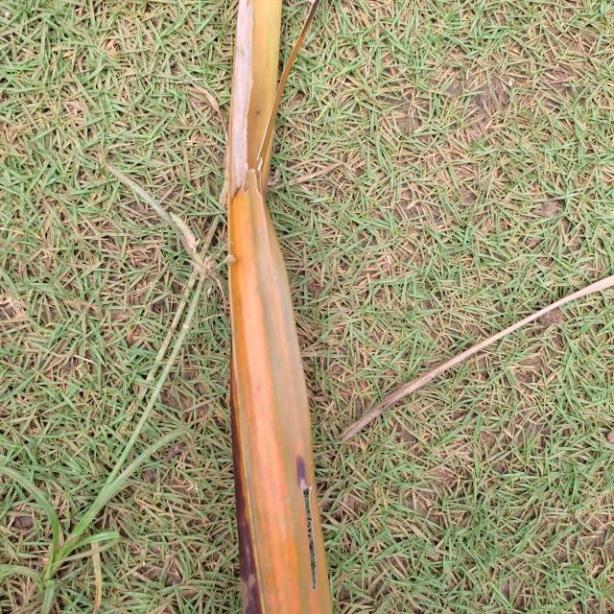Megnesium: (212, 0, 336, 614)
